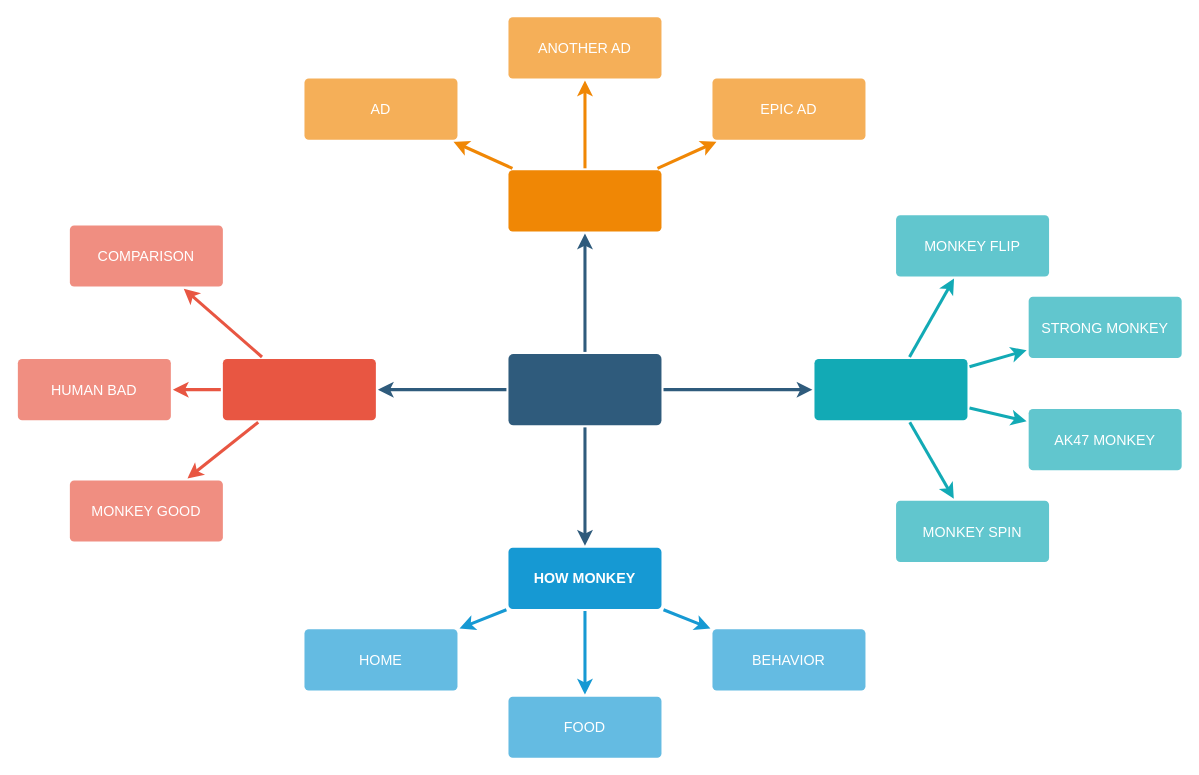
This 1199x775 diagram has some shape labels left out. The shapes that lost their labels are listed below. From the top down, each one's box as (x1, y1, x2, y2) in pixels, then its label:
(508, 170, 661, 231): MARKETING
(222, 359, 375, 420): WHY MONKEY
(508, 353, 661, 425): BECOME MONKEY
(814, 359, 967, 420): LEGEND MONKEY
